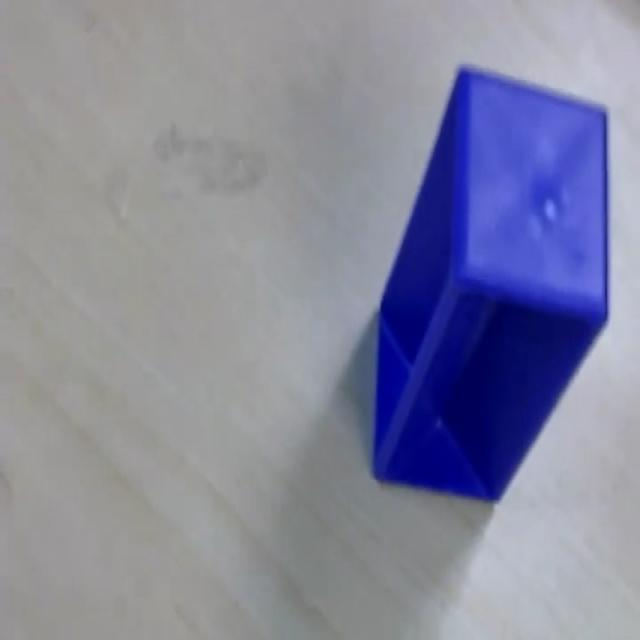blue_block: (370, 61, 611, 503)
